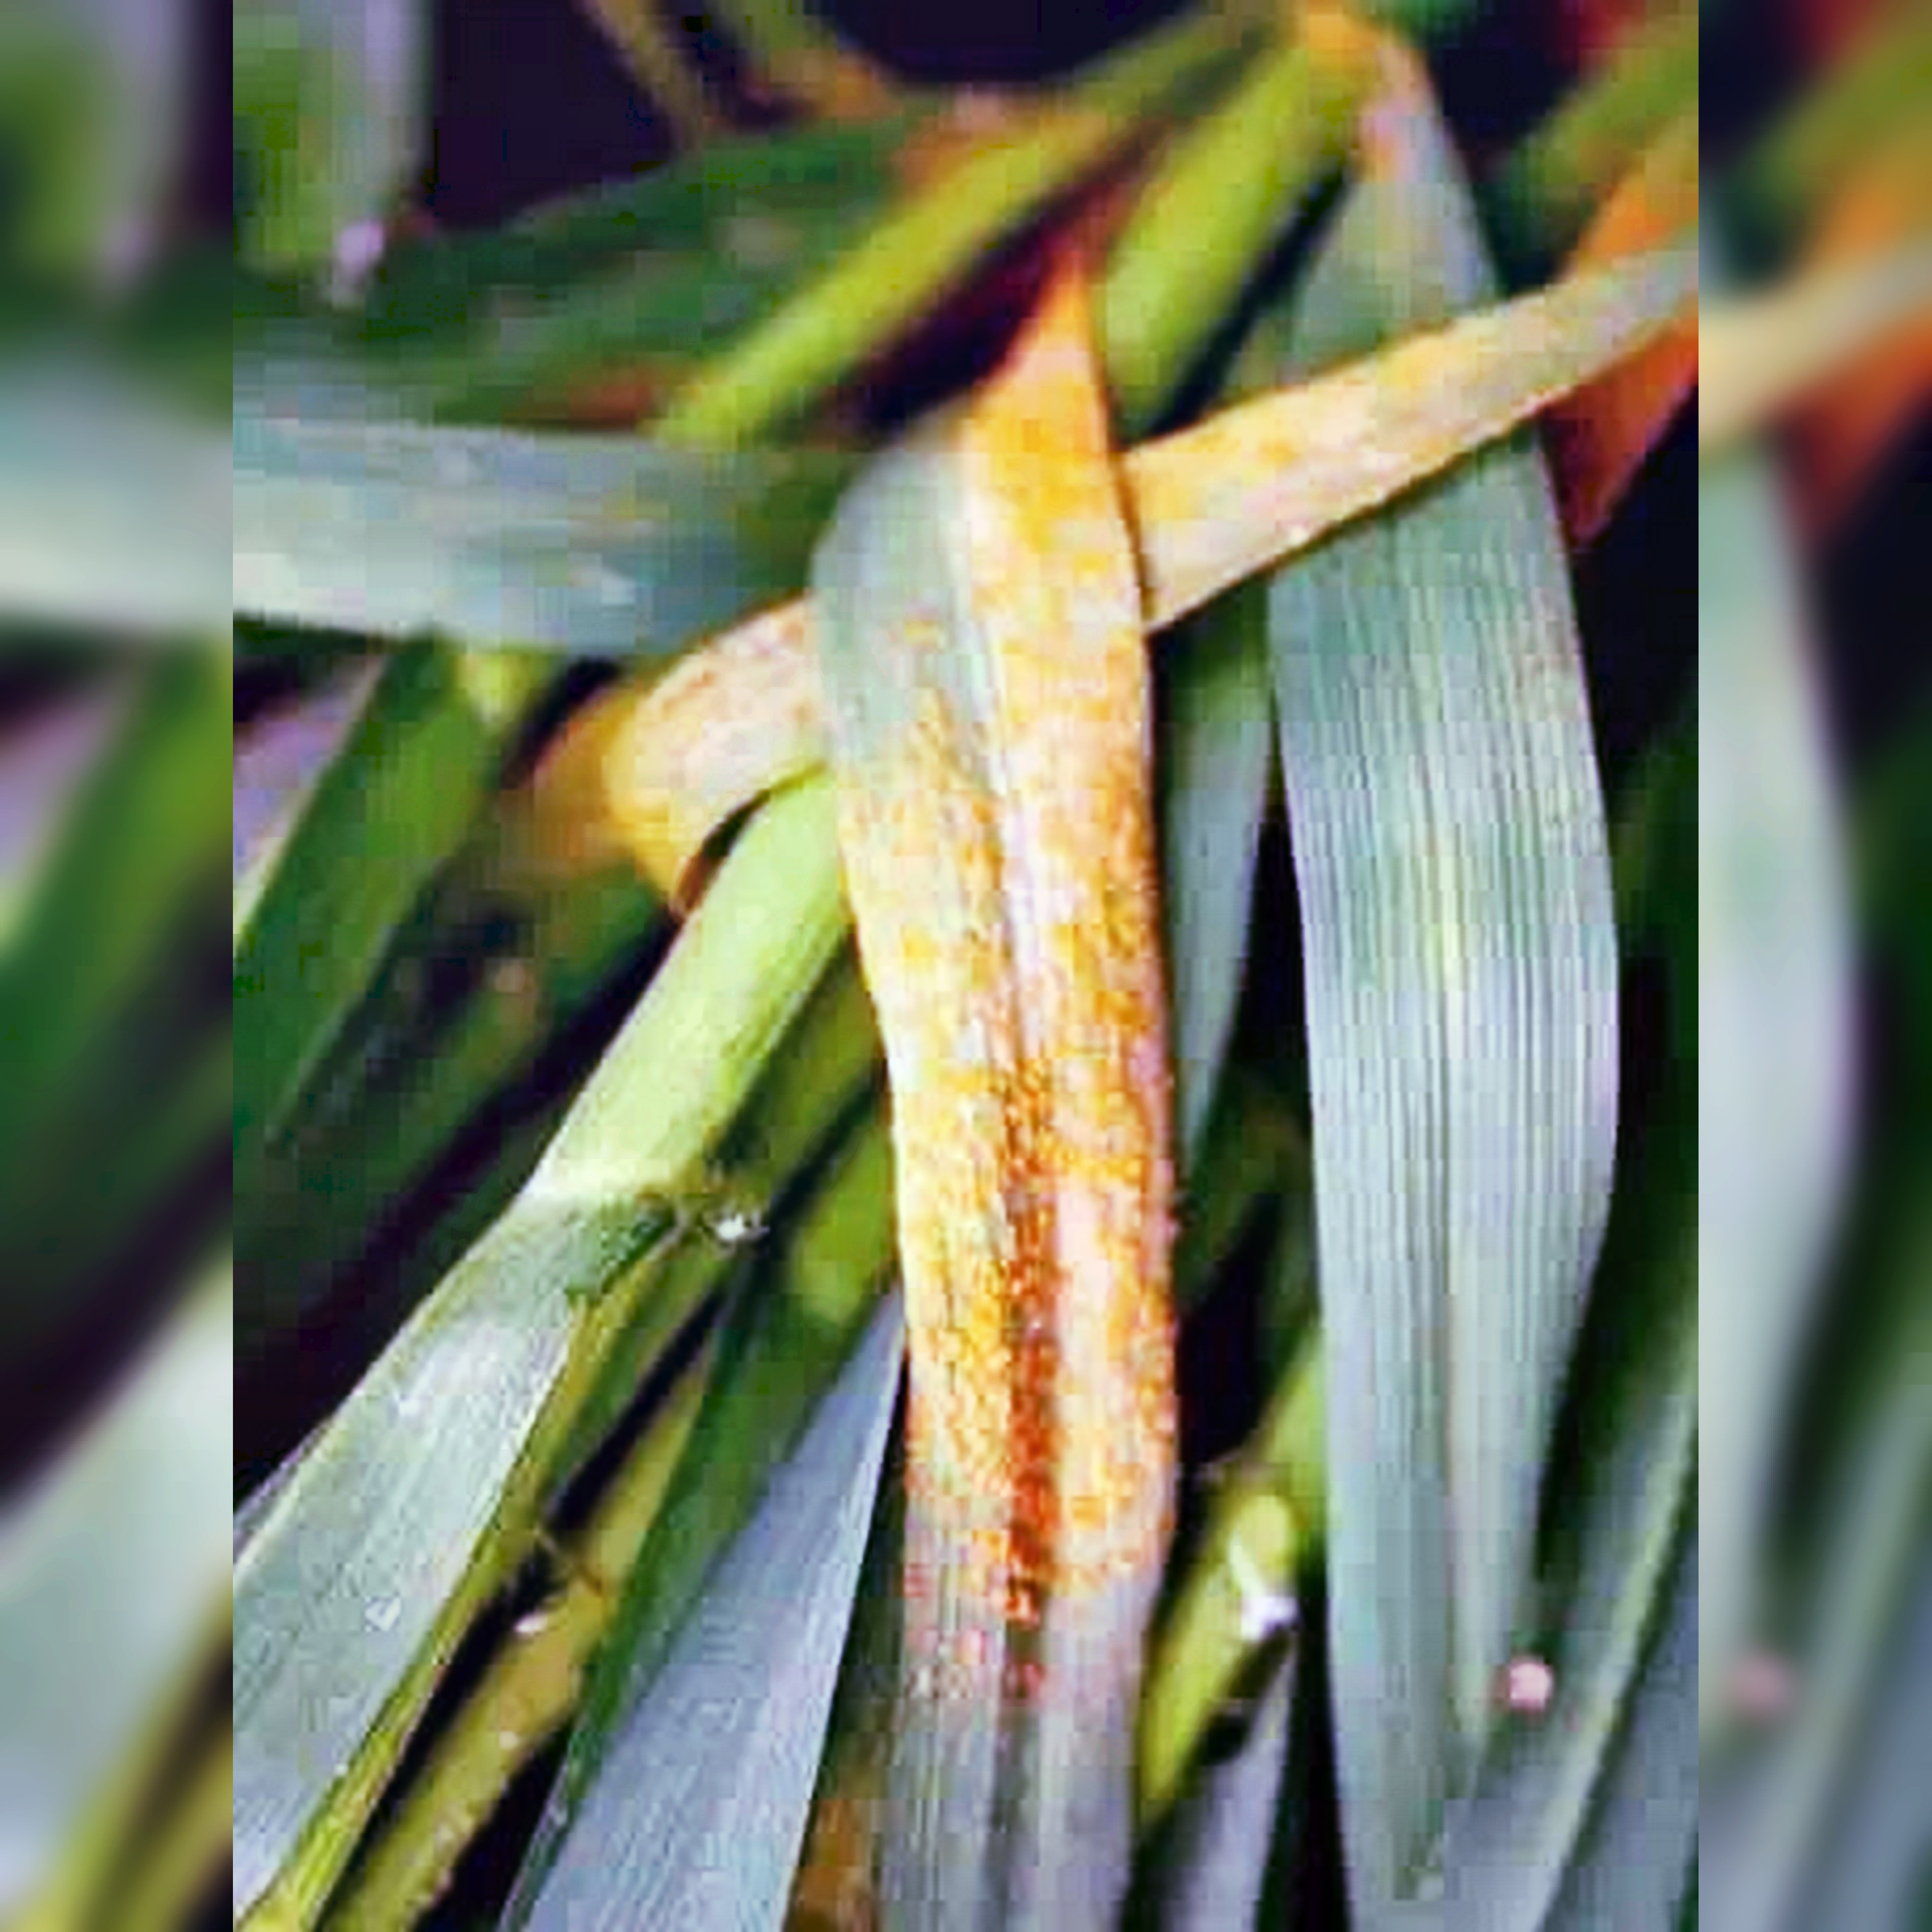Leaf Rust: (846, 658, 1223, 1706)
